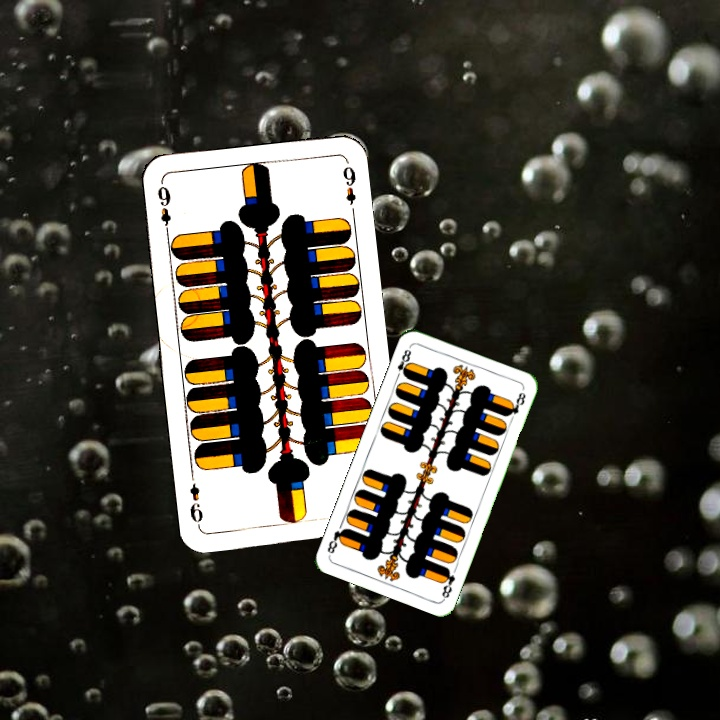E8: (392, 345, 414, 382), (438, 564, 458, 602)
E9: (153, 179, 174, 239)
